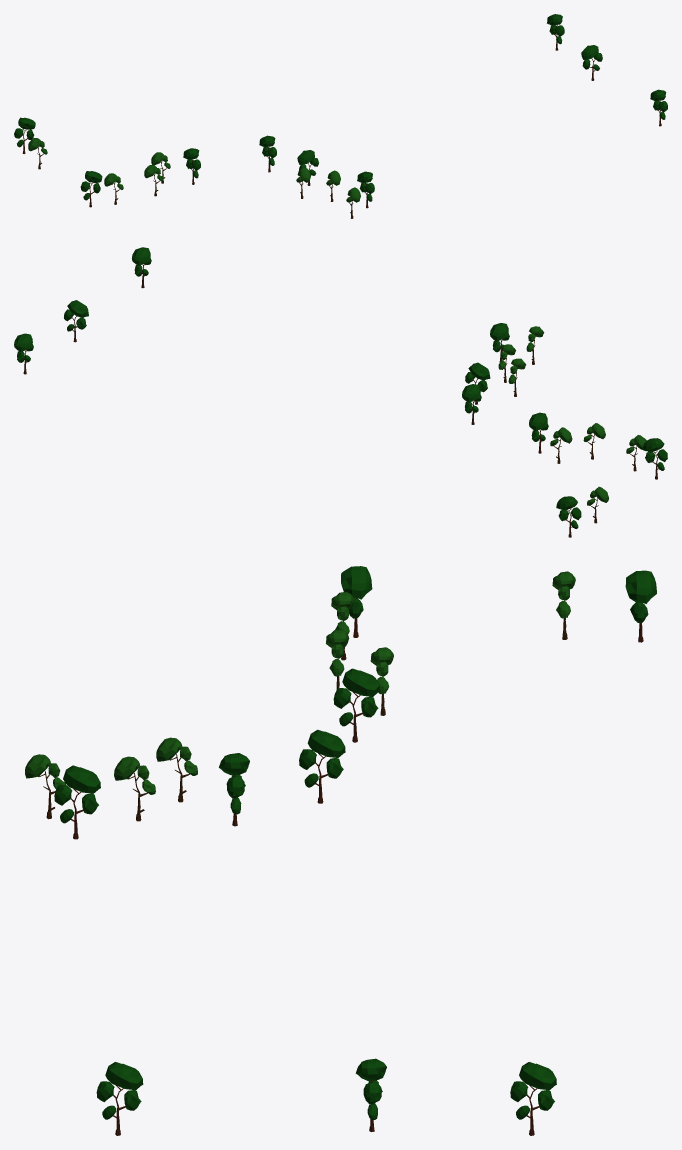
File: arboles1.obj
3 renders of one model, top to bottom at view 1: azimuth 30°, elevation 25°; view 2: azimuth 150°, elevation 25°; view 3: azimuth 270°, elevation 25°, orthographic. The views are drawn at different scales.
Visible parts, largest first — view 1: 138.005, 138, 138.007, 138.008, 138.004, 138.006, 138.002, 138.001, 138.003; view 2: 138.005, 138, 138.007, 138.008, 138.003, 138.001, 138.006, 138.004; view 3: 138.006, 138.002, 138.001, 138.004, 138.008, 138.005, 138, 138.003, 138.007, 139.005, 139.004, 139.003.
Part boxes in pixels (x1,y1,x2,y2): 138.005: (14, 117, 35, 153); 138: (80, 171, 102, 207); 138.007: (581, 45, 602, 80); 138.008: (547, 14, 564, 50); 138.004: (259, 135, 276, 172); 138.006: (650, 89, 667, 126); 138.002: (357, 171, 374, 208); 138.001: (183, 148, 200, 184); 138.003: (297, 150, 318, 185); 138.005: (556, 496, 581, 537); 138: (642, 438, 667, 479); 138.007: (64, 300, 88, 342); 138.008: (14, 333, 33, 374); 138.003: (465, 362, 490, 404); 138.001: (529, 412, 548, 453); 138.006: (132, 247, 151, 288); 138.004: (462, 384, 481, 424); 138.006: (96, 1062, 143, 1135); 138.002: (54, 765, 100, 839); 138.001: (333, 668, 380, 742); 138.004: (299, 729, 345, 803); 138.008: (510, 1062, 556, 1135); 138.005: (625, 570, 656, 642); 138: (341, 566, 372, 637); 138.003: (219, 753, 249, 826); 138.007: (355, 1058, 386, 1131); 139.005: (114, 756, 155, 821); 139.004: (156, 737, 197, 802); 139.003: (25, 754, 65, 819).
Bounding box in the file's own units: 8.61 × 0.5748 × 4.48.
